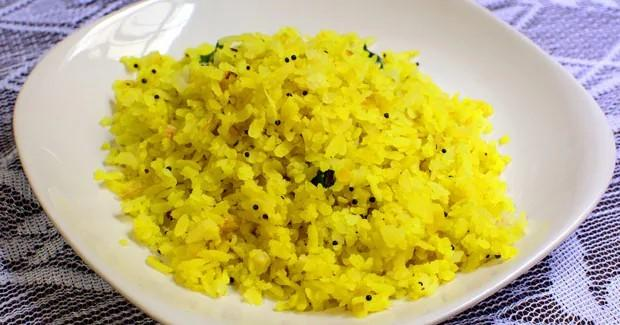Poha: (98, 27, 529, 316)
